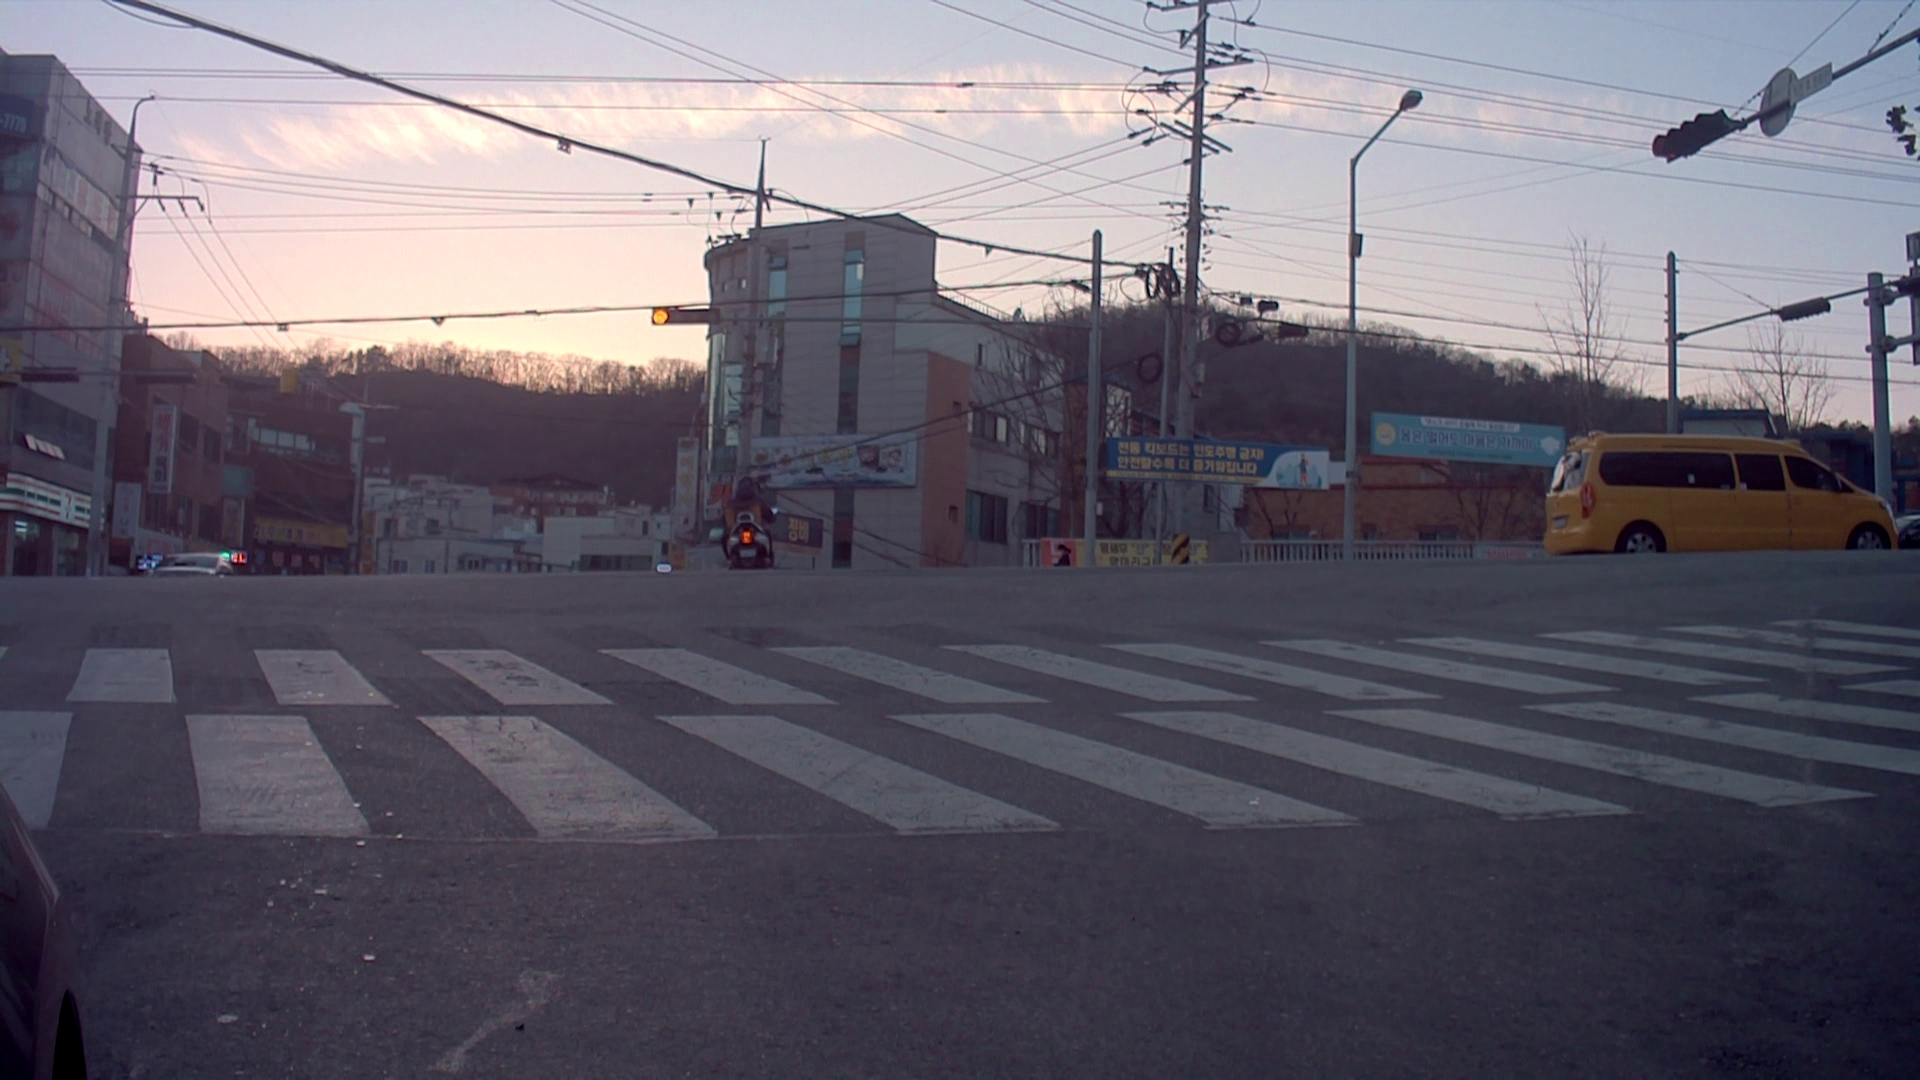trafficLight: (651, 302, 731, 327)
